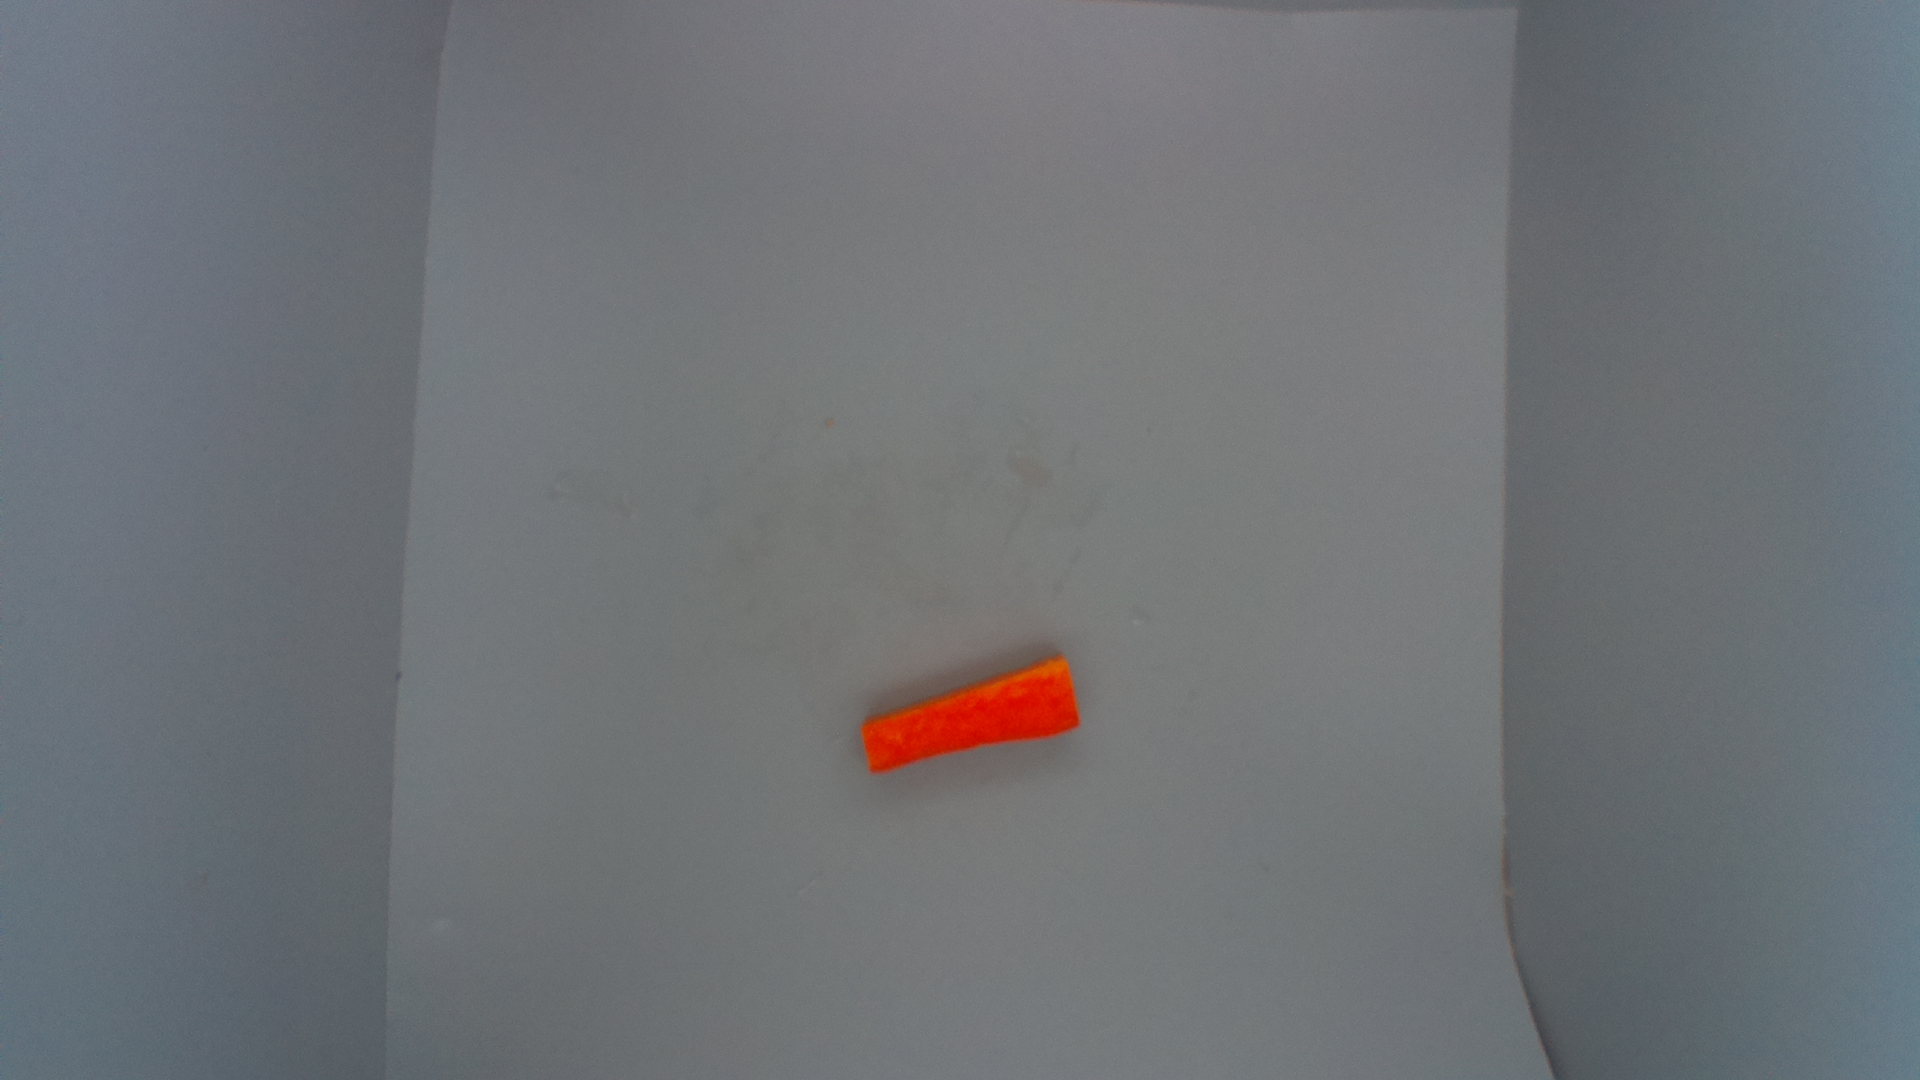carrot: (856, 653, 1083, 781)
